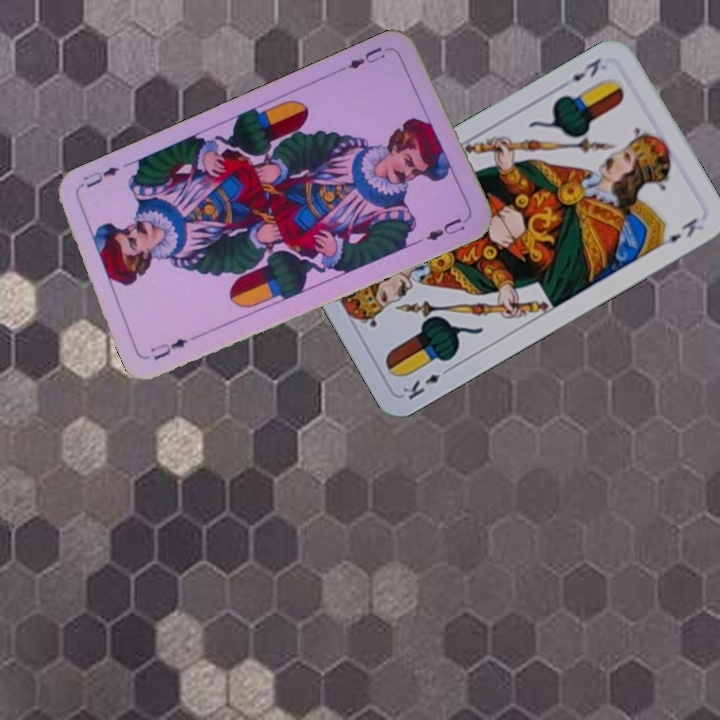EK: (398, 362, 455, 403), (567, 53, 604, 84)
EU: (337, 42, 388, 74), (146, 334, 191, 363)
